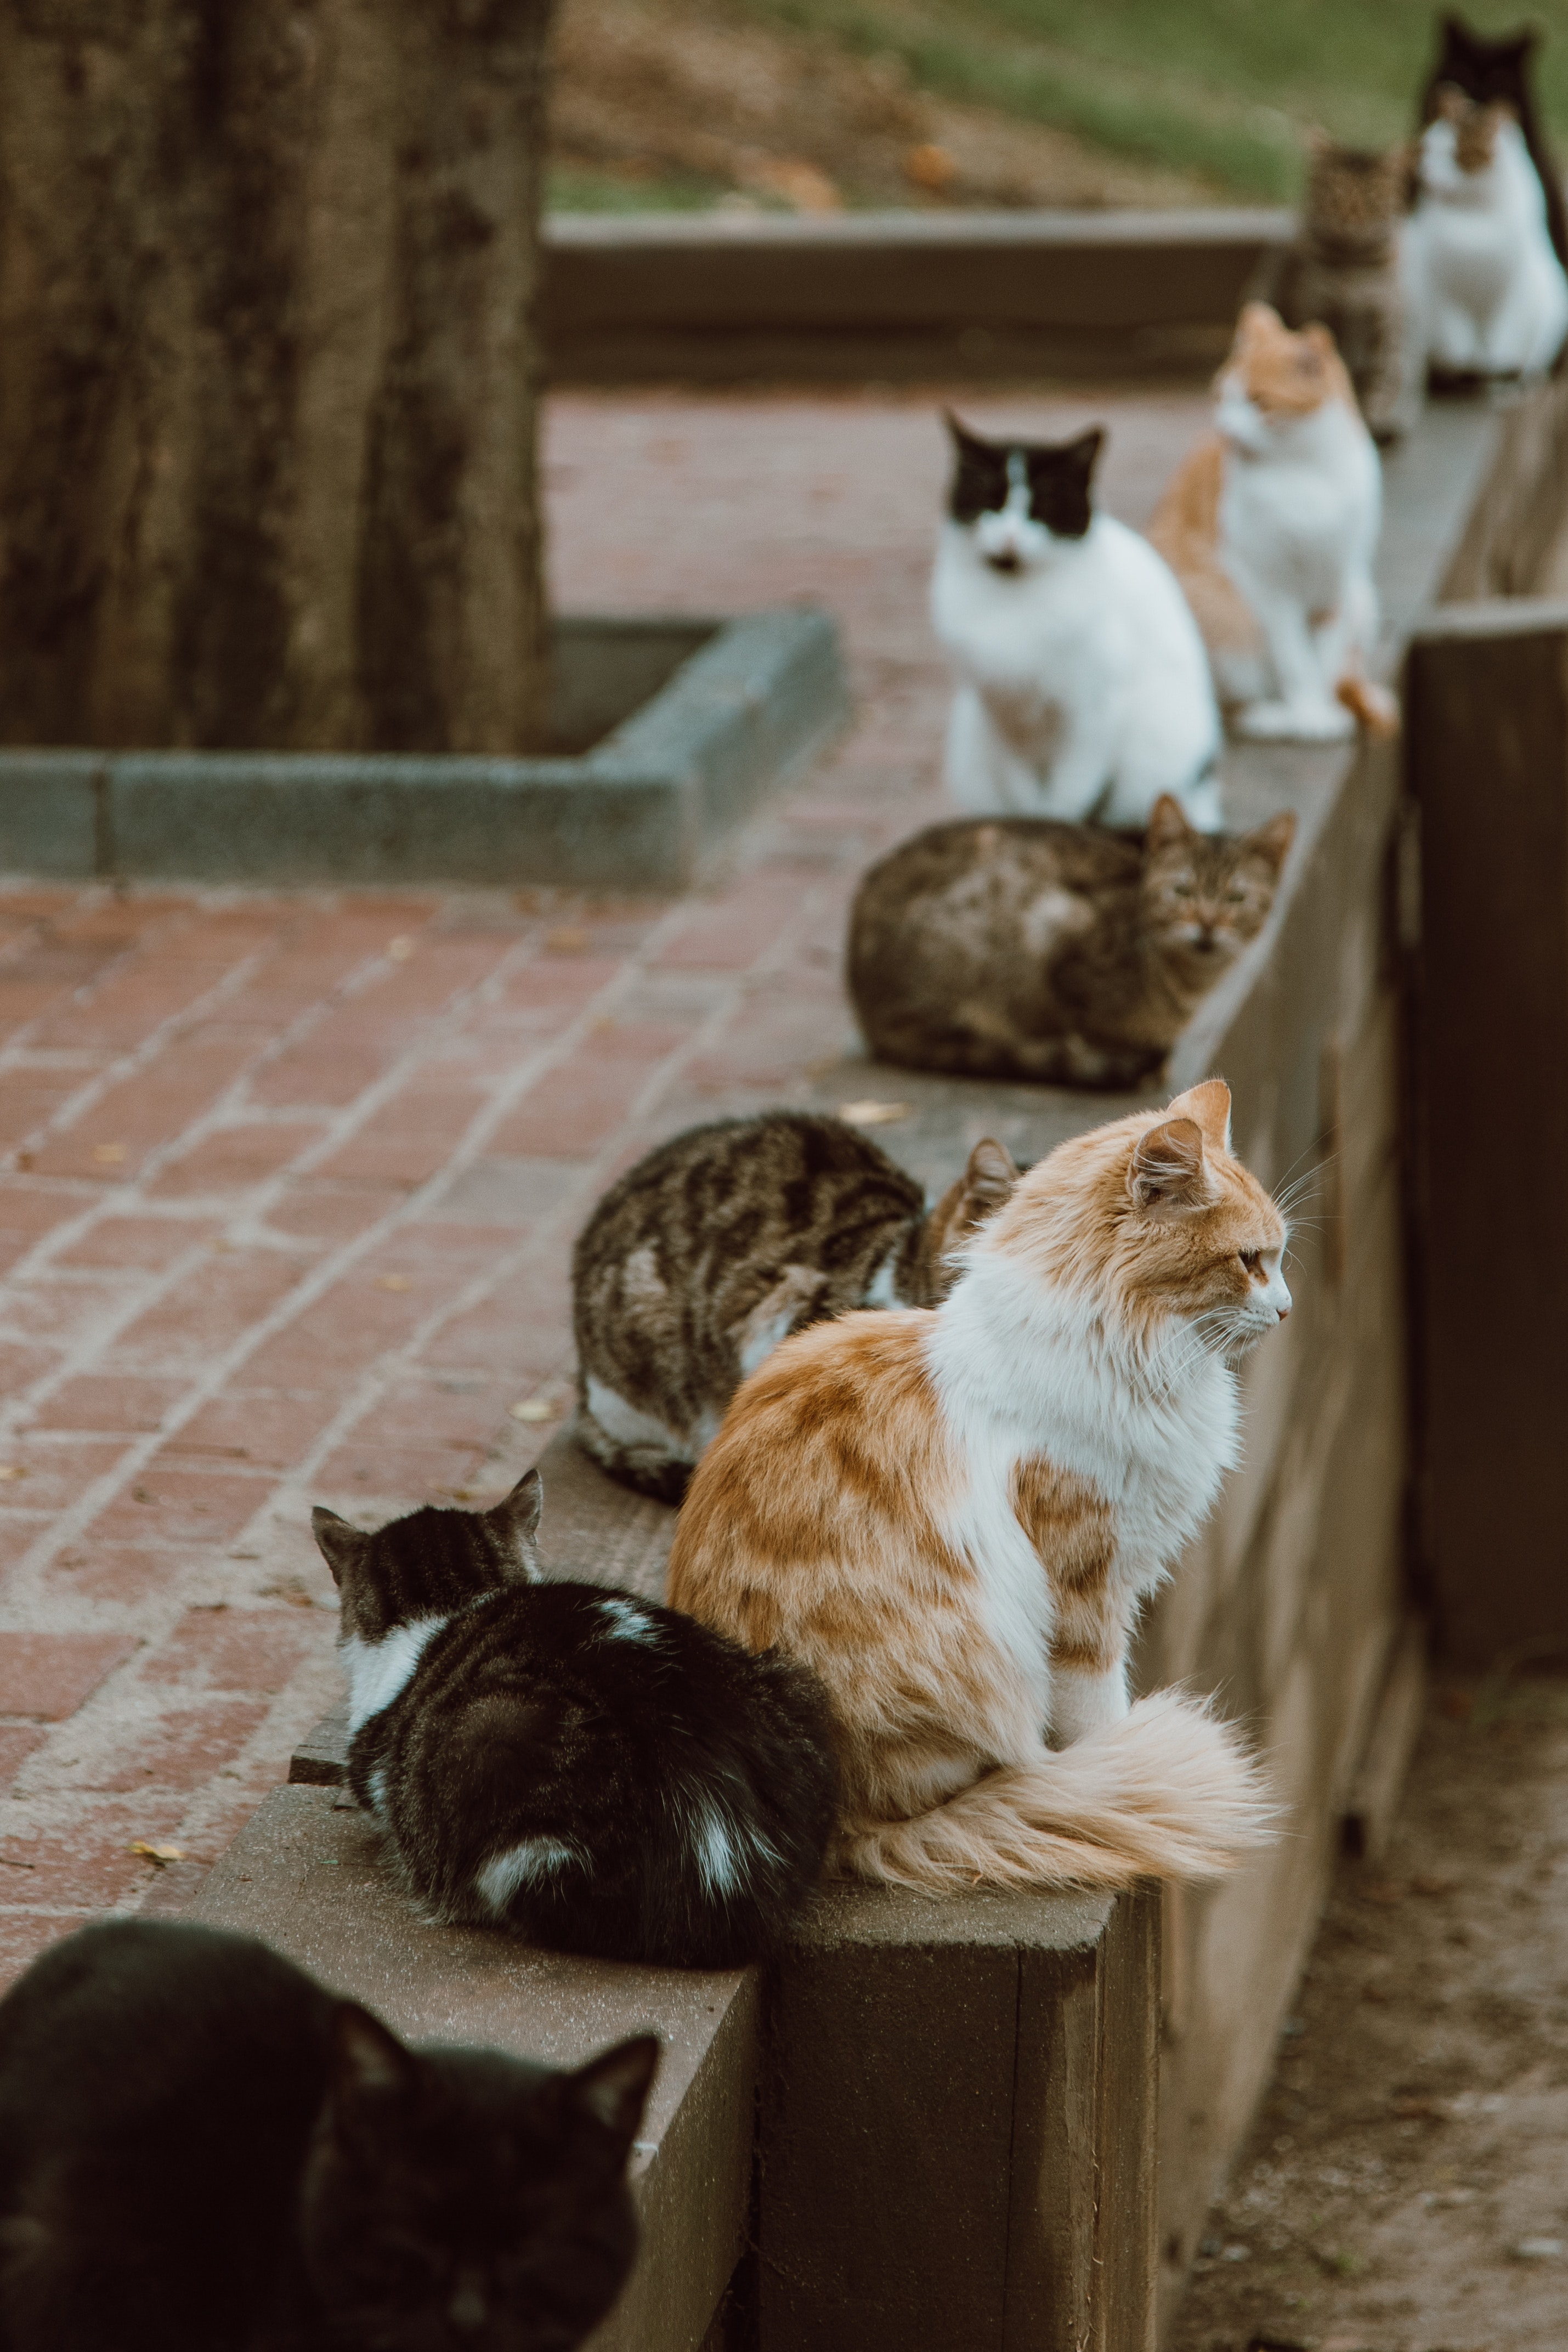cat: (686, 1097, 1279, 1881), (3, 1913, 656, 2352), (299, 1493, 842, 1946), (919, 402, 1228, 857), (569, 1108, 919, 1484), (842, 812, 1291, 1092), (1171, 292, 1393, 740), (1393, 94, 1552, 396)
